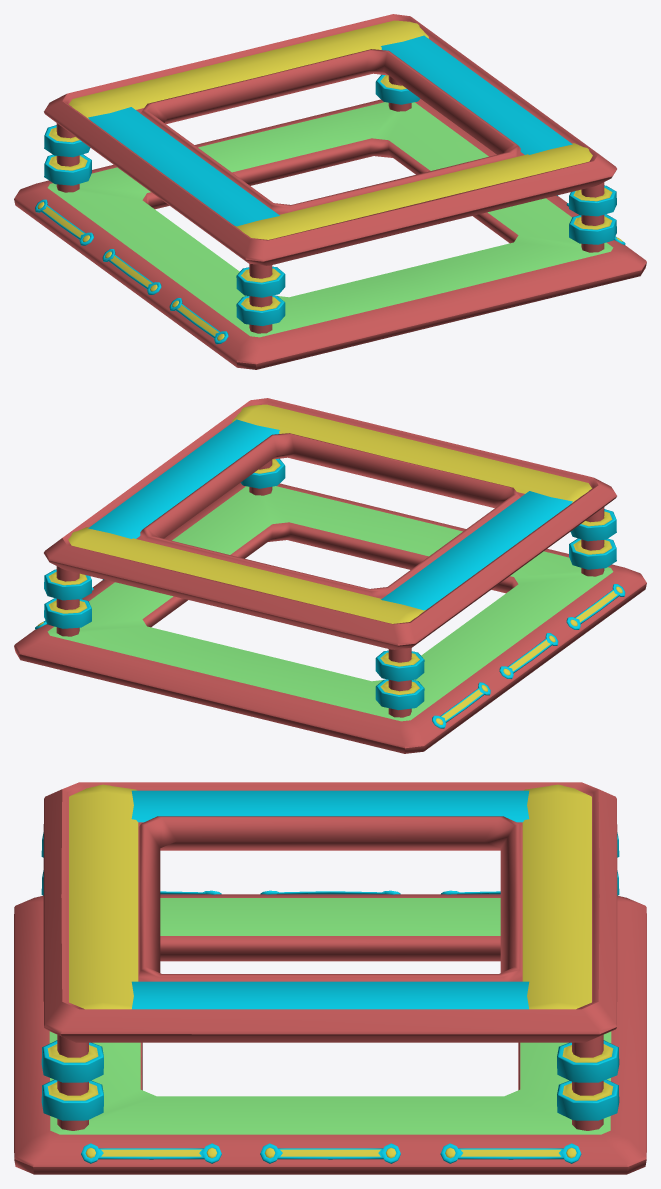
File: outRing2.fbx
3 views of the same model, one above another, from view 1: azimuth 30°, elevation 25°; view 2: azimuth 150°, elevation 25°; view 3: azimuth 270°, elevation 25° (orthographic). The views are drawn at different scales.
Visible parts, largest first — view 1: polySurface5, polySurface18, polySurface15; view 2: polySurface5, polySurface18, polySurface15; view 3: polySurface18, polySurface5, polySurface15.
Part boxes in pixels (x1,y1,x2,y2): polySurface5: (14,99,646,369); polySurface18: (44,14,616,265); polySurface15: (44,74,616,333); polySurface5: (14,483,646,753); polySurface18: (44,398,616,649); polySurface15: (44,458,616,717); polySurface18: (43,782,617,1042); polySurface5: (14,890,646,1174); polySurface15: (41,832,619,1130).
Size of the model in its own units: 59.36 by 15.79 by 59.39.
